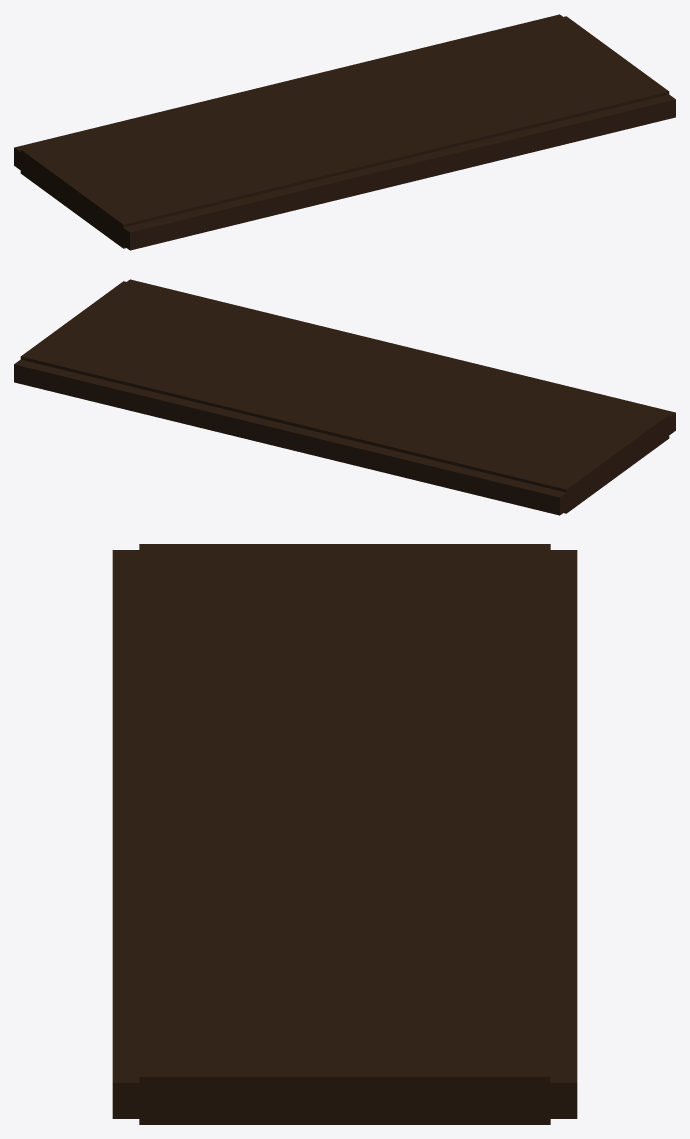
The model's file is sill.glb.
The picture shows the model from 3 angles, top to bottom: view 1: azimuth 30°, elevation 25°; view 2: azimuth 150°, elevation 25°; view 3: azimuth 270°, elevation 25°; orthographic projection. The views are drawn at different scales.
Parts seen in each view (by area): view 1: sill; view 2: sill; view 3: sill.
Part boxes in pixels (box(x1,y1,x2,y2)): sill: box(14, 14, 675, 250); sill: box(14, 279, 675, 515); sill: box(112, 544, 577, 1124).
Size of the model in its own units: 1.9 by 0.08 by 0.7.
